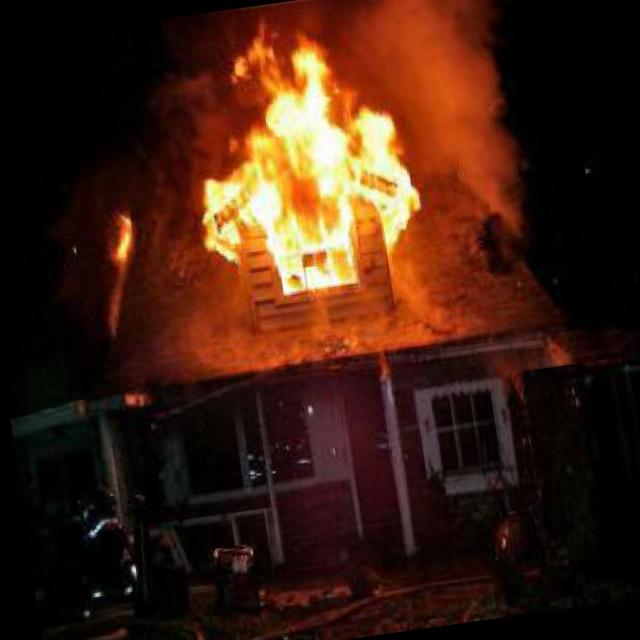fire: (181, 24, 430, 305)
